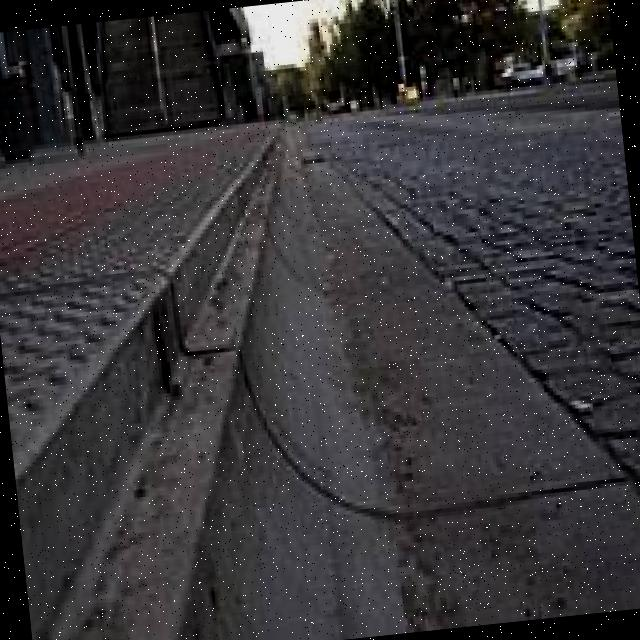curb: (13, 219, 394, 640), (223, 107, 297, 225)
